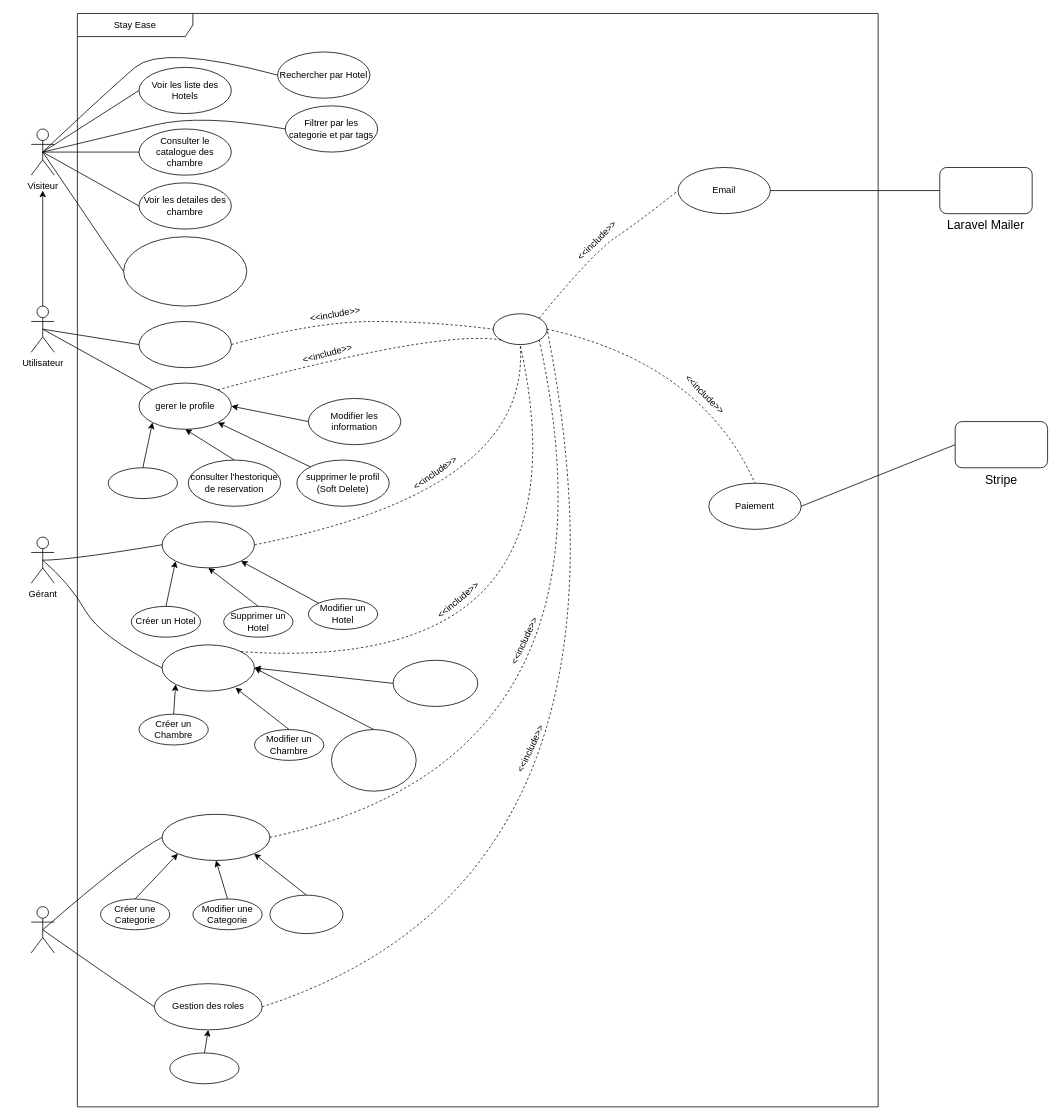
Some shapes in this 1061 by 1120 pixel diagram are drawn without their labels. Here are the shapes that lost their labels. From the top down, the centre of each, then its label:
[185,271]: Saisir une date Début/Fin a fin de consulter les chambres desponibles
[184,344]: Réservation de chambre
[519,329]: Auth
[142,483]: Voir le profile
[207,544]: Gestion des Hotels
[207,667]: Gestion des Chambre
[435,683]: Classer une Chambre par Tags et Categorie
[373,760]: Supprimerun Chambre (Soft Delete)
[215,837]: Gestion des categorie
[42,929]: Administrateur
[306,914]: Supprimer une Categorie
[204,1068]: Modifier un Role
